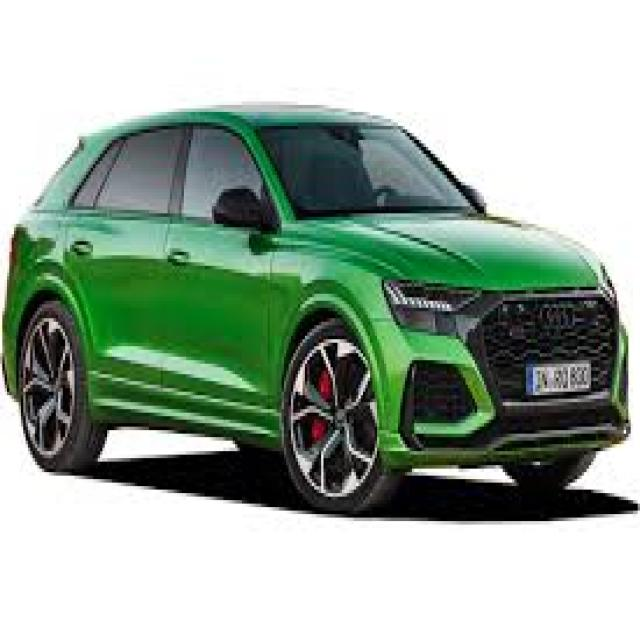SUV: (3, 94, 634, 513)
